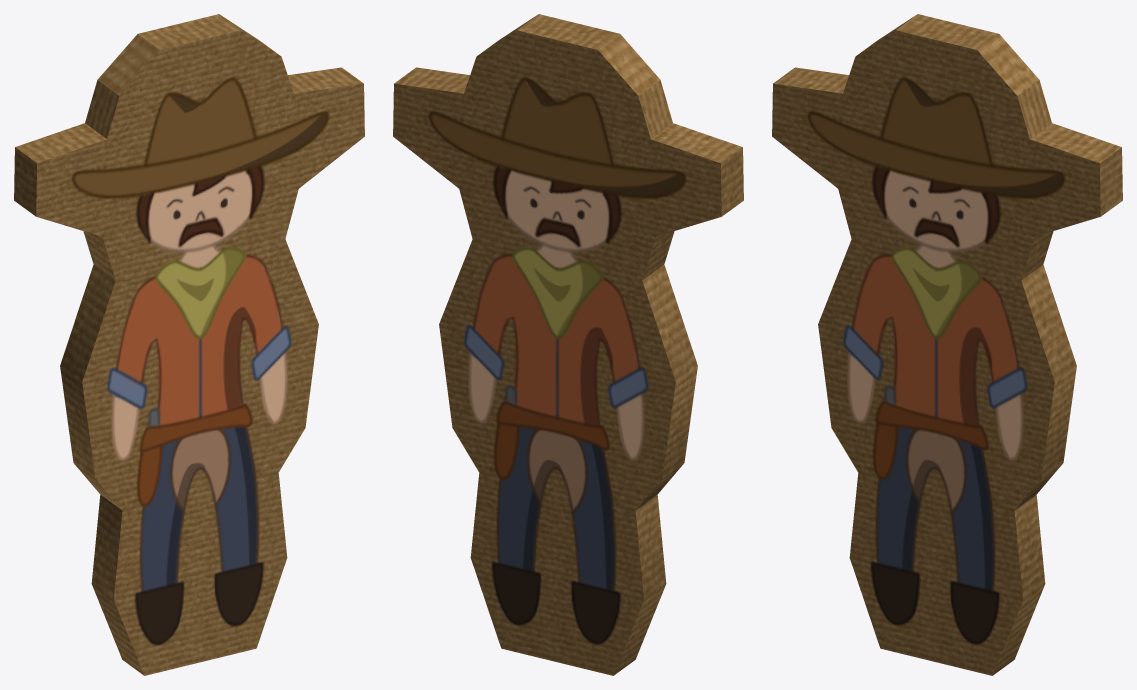
The model's file is Char_Cowboy_02.fbx.
3 views of the same model, side by side, from view 1: azimuth 30°, elevation 25°; view 2: azimuth 150°, elevation 25°; view 3: azimuth 330°, elevation 25° (orthographic).
Parts seen in each view (by area): view 1: Cowboy_02; view 2: Cowboy_02; view 3: Cowboy_02.
Boxes of the visible parts, x1,y1,x2,y2 form: Cowboy_02: (14, 14, 364, 675); Cowboy_02: (393, 14, 743, 675); Cowboy_02: (772, 14, 1122, 675).
Bounding box in the file's own units: 0.6847 × 1.24 × 0.0799.
